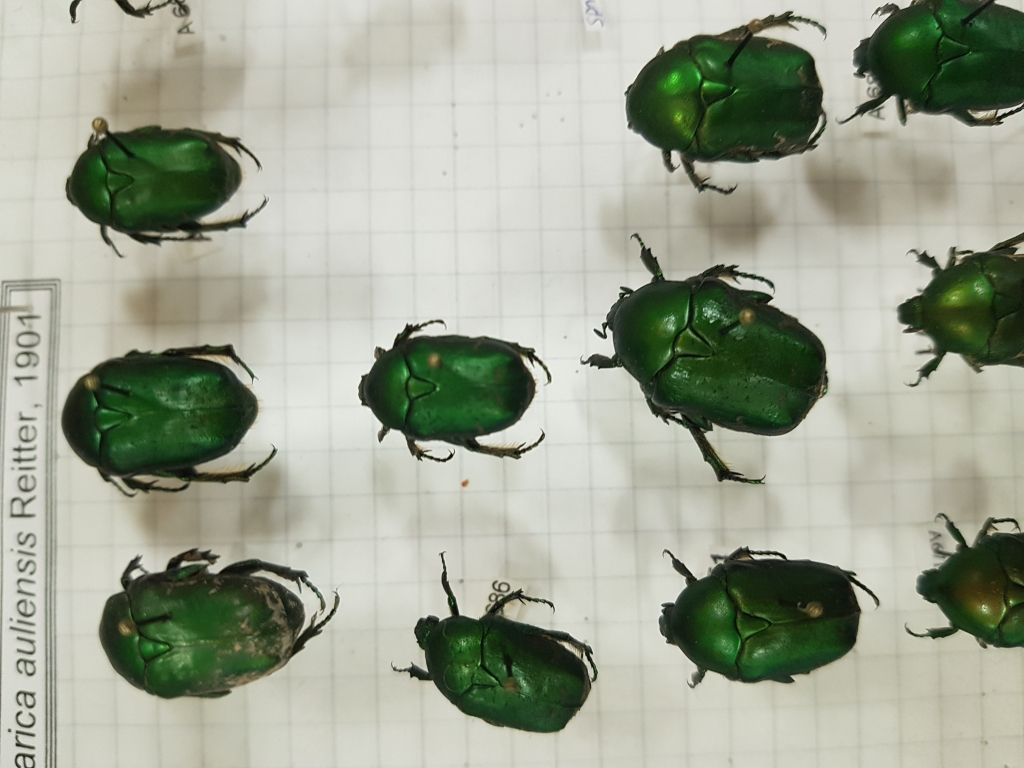Protaetia_ungarica_americana: (581, 230, 843, 489), (388, 542, 617, 738), (65, 320, 288, 511), (94, 541, 353, 704), (354, 308, 567, 488), (55, 120, 284, 265)
